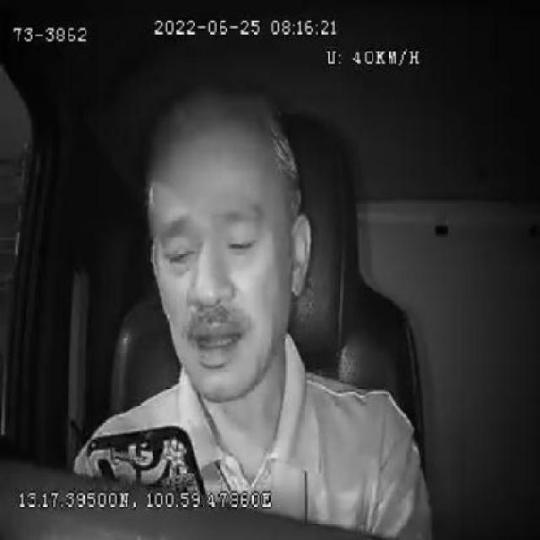phone: (85, 422, 204, 488)
